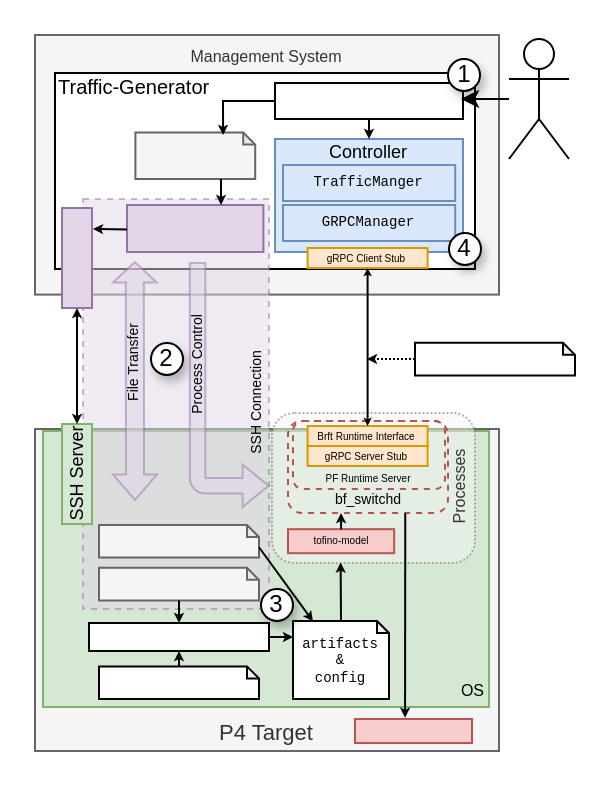
The diagram is 610 pixels wide and 786 high, and some of its shapes have lost their labels. The shapes that lost their labels are listed below. From the top down, each one's centre as x and y in pixels, then its label:
At (x=368, y=100): "TrafficConfigurator".
At (x=194, y=155): "templates".
At (x=194, y=227): "TofinoSwitch".
At (x=76, y=257): "SSH Client".
At (x=494, y=358): "bf_runtime.proto".
At (x=178, y=540): "configs".
At (x=178, y=583): "traffic_gen.p4".
At (x=178, y=636): "Barefoot P4 Compiler".
At (x=178, y=681): "tofino_arch.p4".
At (x=412, y=730): "NPU".
